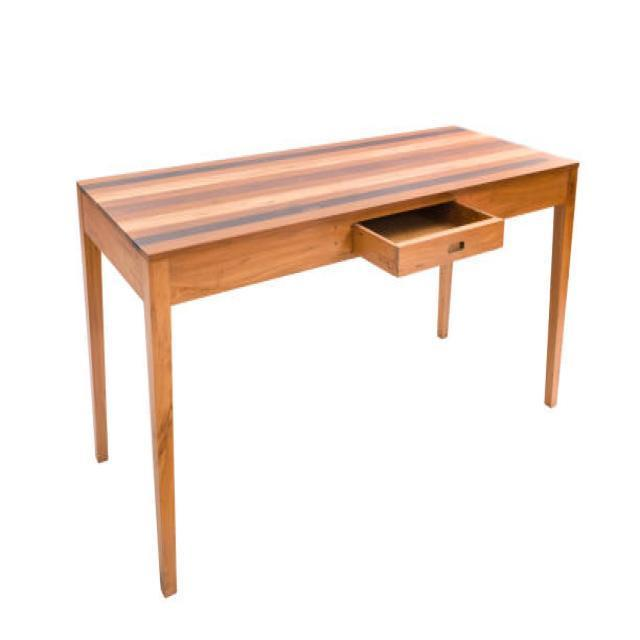table: (76, 122, 580, 598)
